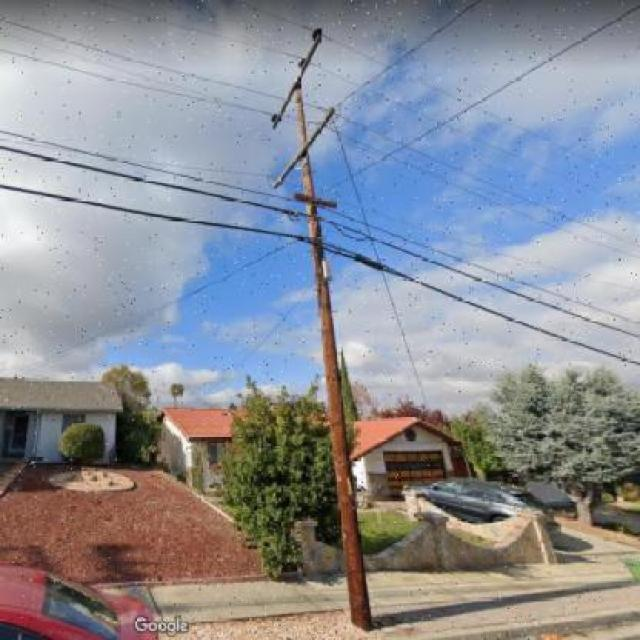pole: (255, 16, 399, 636)
